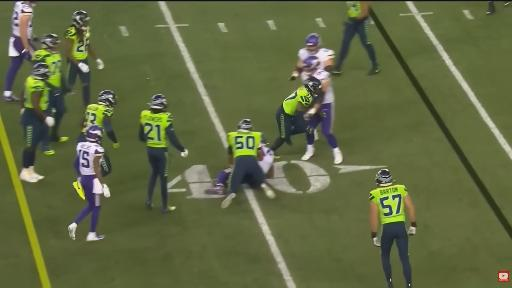Helmet: (40, 34, 60, 53), (303, 55, 321, 73), (98, 90, 117, 107), (304, 77, 321, 96), (72, 11, 89, 30), (376, 169, 393, 186), (86, 125, 103, 142), (306, 34, 321, 53), (33, 63, 49, 79), (149, 95, 167, 109), (238, 119, 252, 130), (261, 134, 267, 145), (29, 2, 37, 7)
Jersey: (369, 185, 407, 224), (140, 110, 172, 147), (32, 50, 61, 87), (228, 130, 262, 158), (77, 142, 104, 175), (82, 104, 113, 132), (66, 25, 90, 60), (24, 76, 48, 110), (283, 87, 312, 115), (12, 2, 33, 38), (298, 48, 334, 68), (259, 144, 273, 173), (301, 69, 330, 83), (347, 2, 361, 17)
Player: (139, 95, 188, 213), (370, 169, 416, 287), (68, 126, 110, 241), (222, 119, 275, 208), (301, 56, 342, 163), (32, 34, 68, 154), (20, 63, 54, 182), (271, 77, 323, 152), (66, 11, 103, 106), (332, 2, 379, 75), (3, 2, 36, 101), (77, 90, 118, 148), (78, 90, 118, 148), (290, 34, 334, 80), (259, 142, 274, 178), (487, 2, 495, 15)
